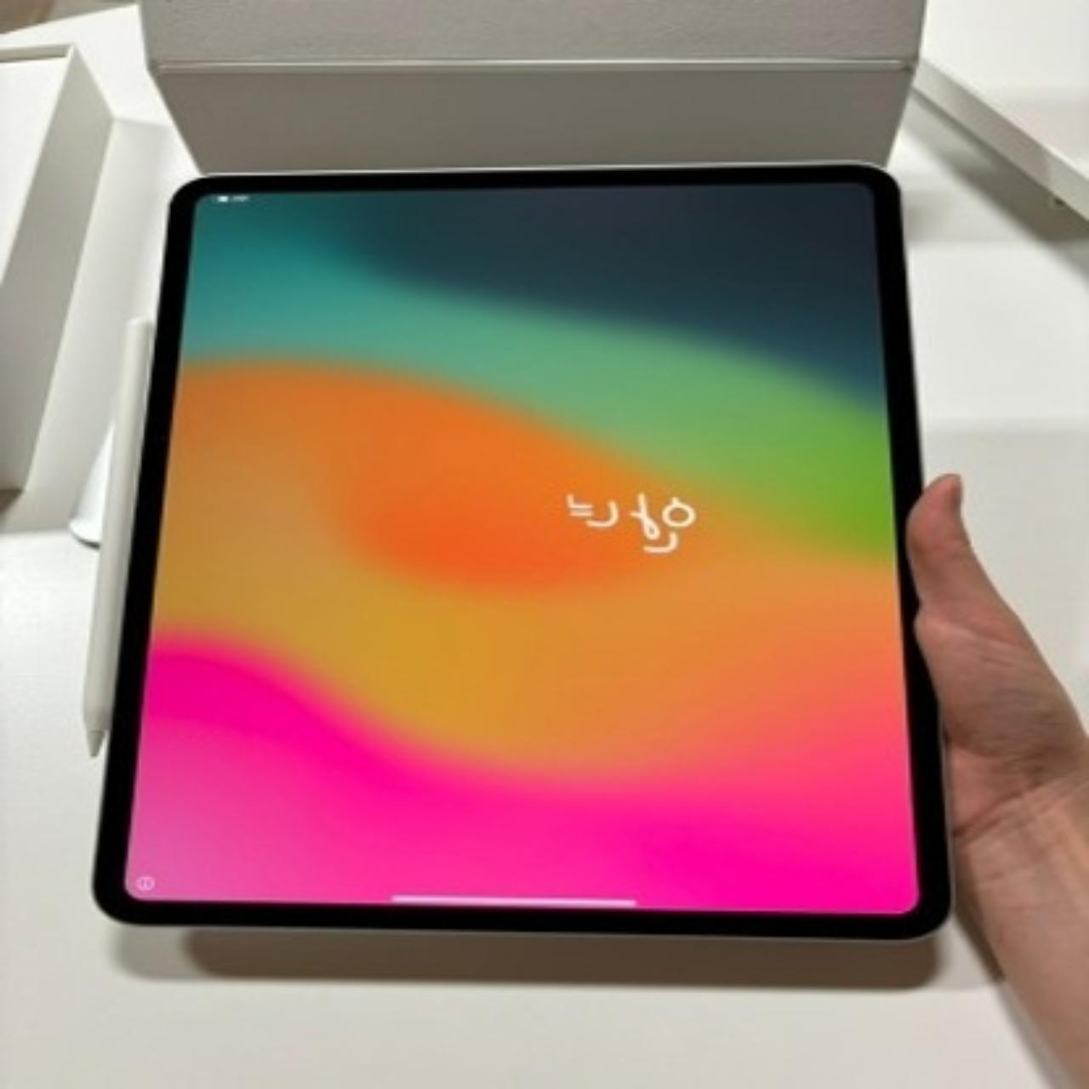Tablet_PC: (76, 162, 961, 971)
